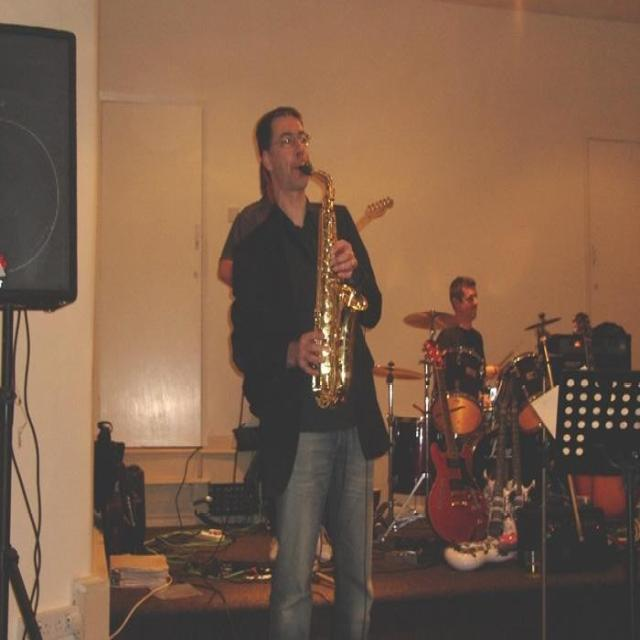drums: (366, 305, 640, 574)
guitar: (420, 336, 489, 552), (568, 306, 627, 529), (482, 378, 518, 553)
saxophone: (298, 162, 372, 414)
